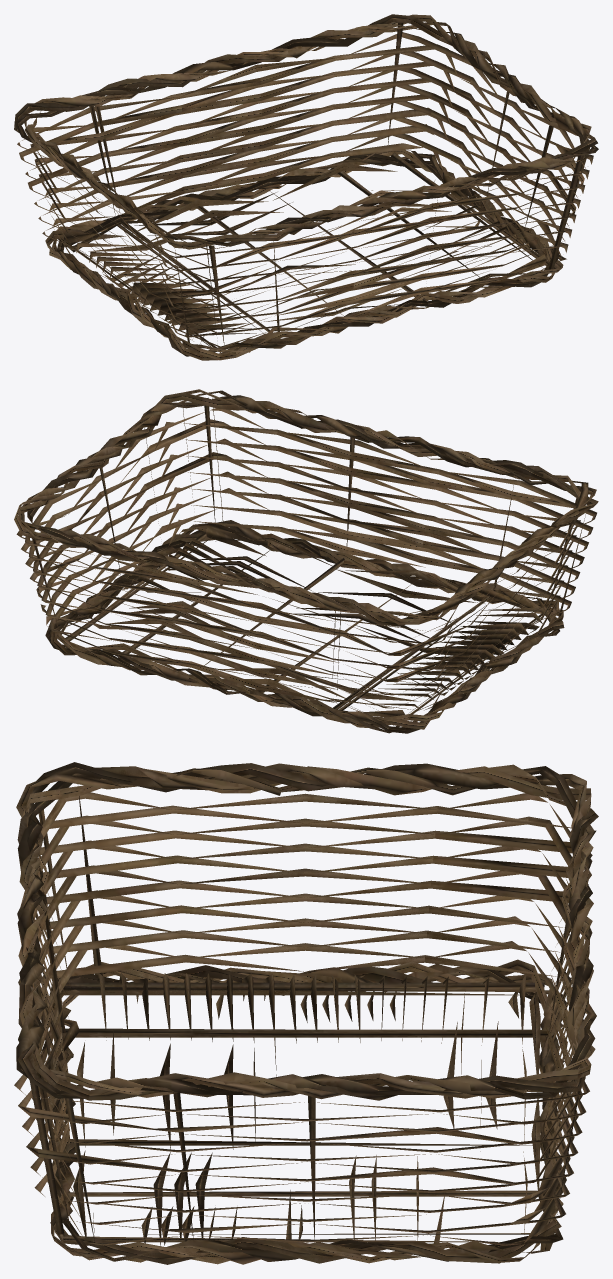
File: wicker_basket_01.glb
The picture shows the model from 3 angles, top to bottom: view 1: azimuth 30°, elevation 25°; view 2: azimuth 150°, elevation 25°; view 3: azimuth 270°, elevation 25°; orthographic projection. The views are drawn at different scales.
Parts seen in each view (by area): view 1: wicker_basket_01; view 2: wicker_basket_01; view 3: wicker_basket_01.
Part boxes in pixels (x1,y1,x2,y2): wicker_basket_01: (14, 14, 598, 360); wicker_basket_01: (14, 389, 598, 733); wicker_basket_01: (14, 762, 598, 1264).
Size of the model in its own units: 0.383 by 0.1174 by 0.2939.
1 material, 1 textured.
